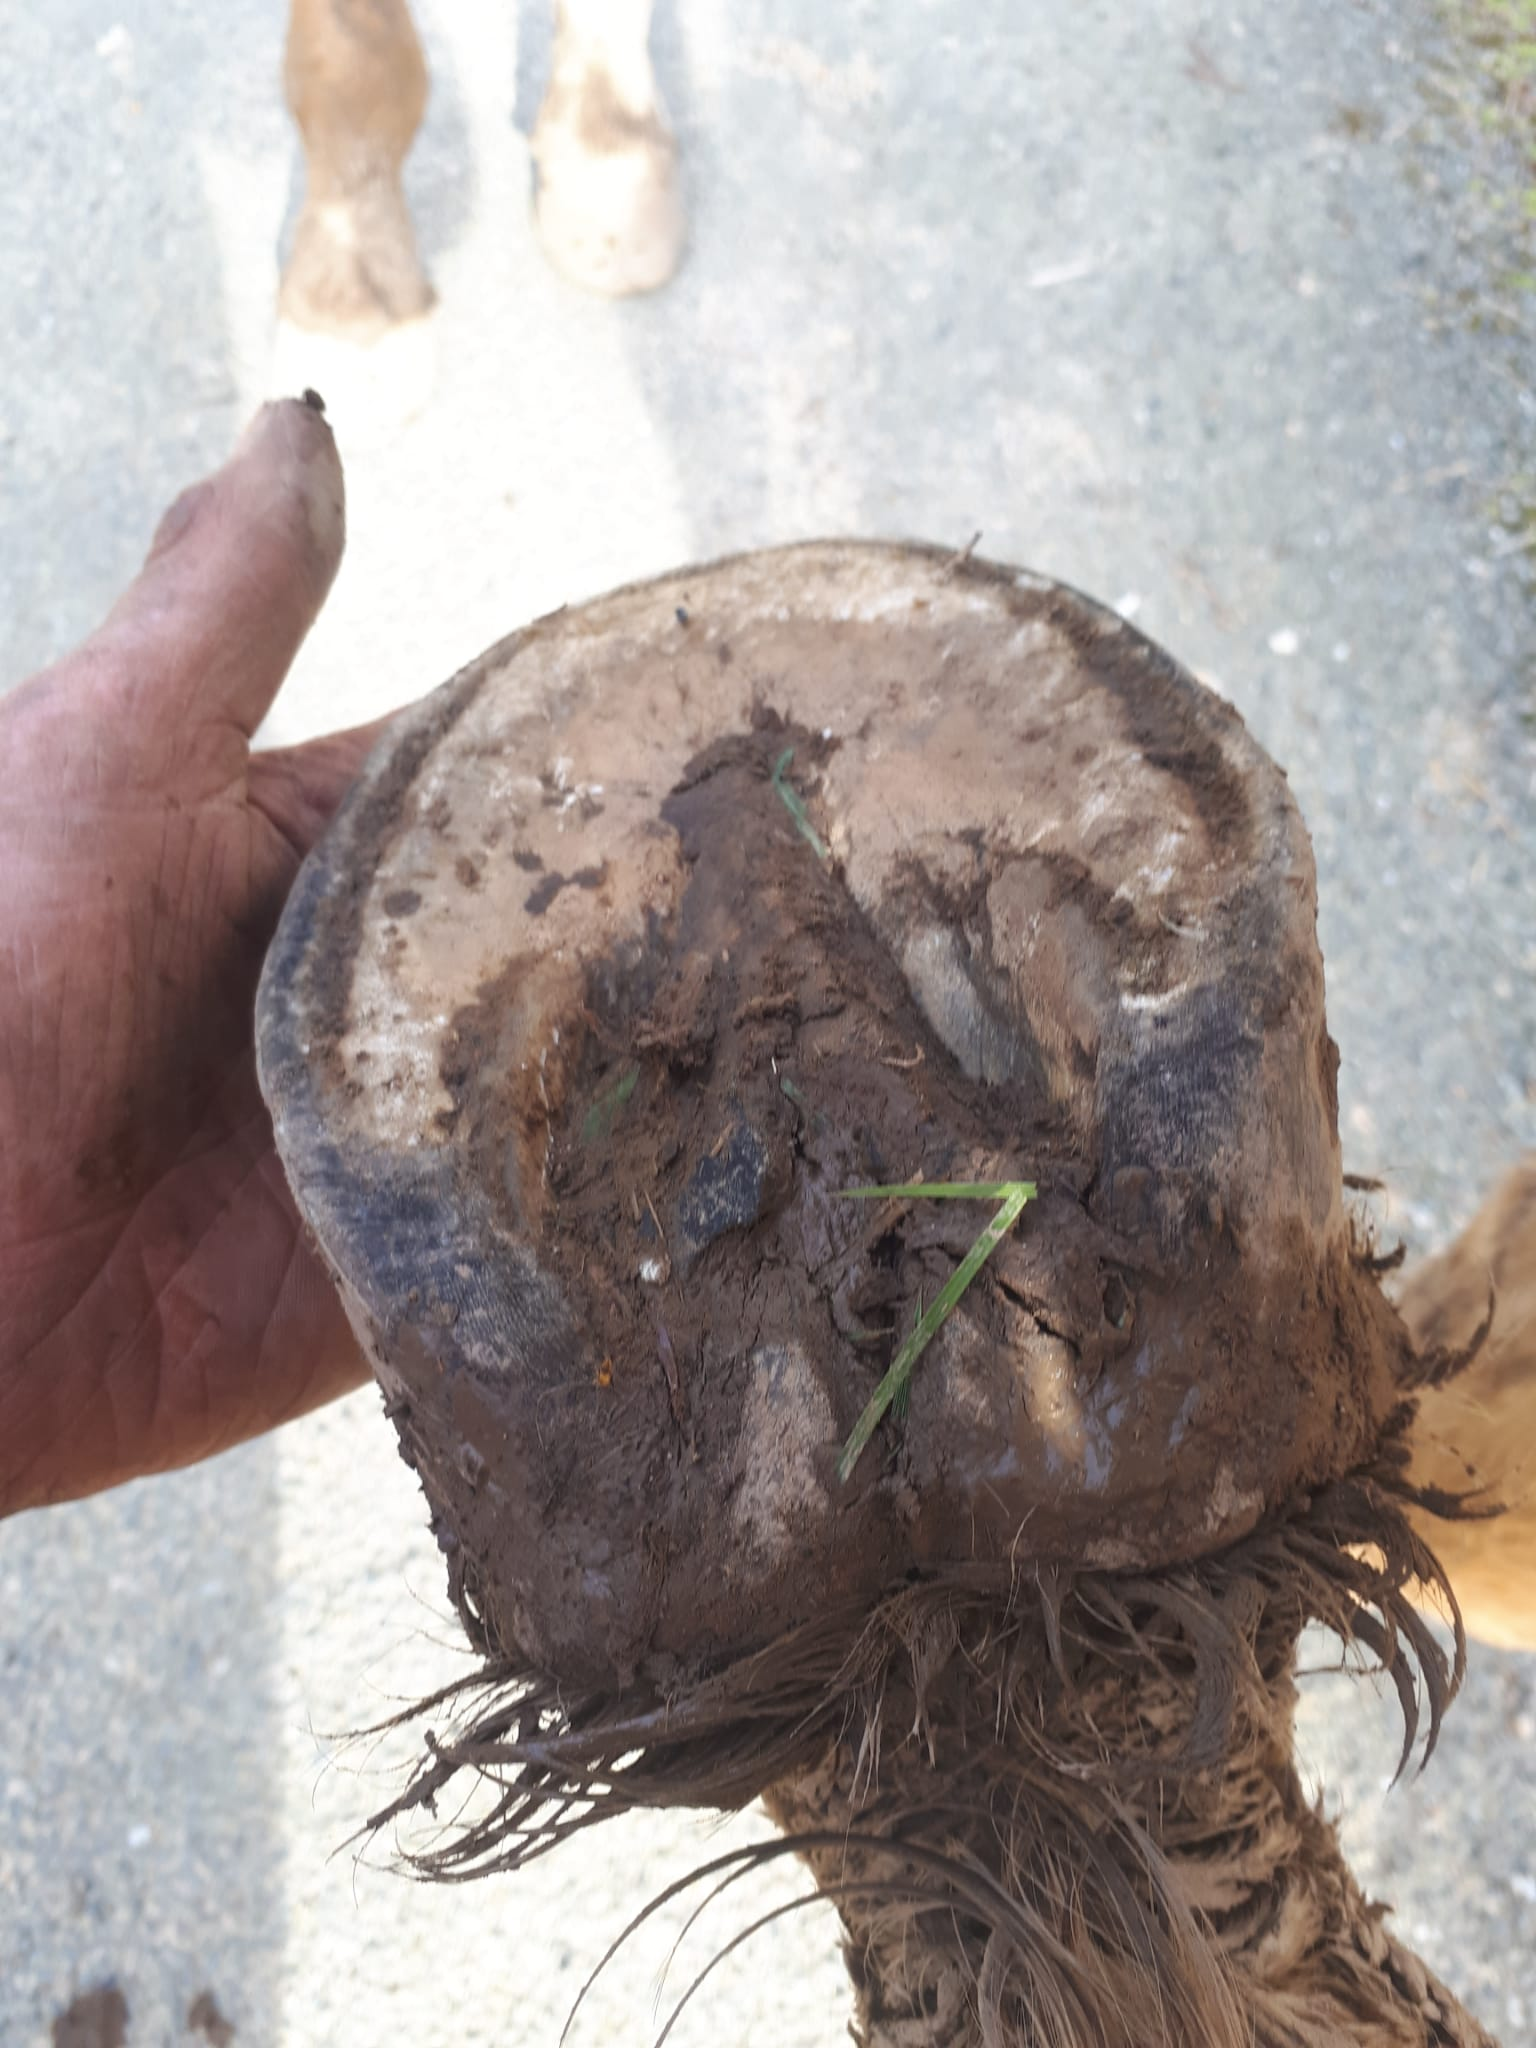horsesole: (248, 534, 1338, 1376)
